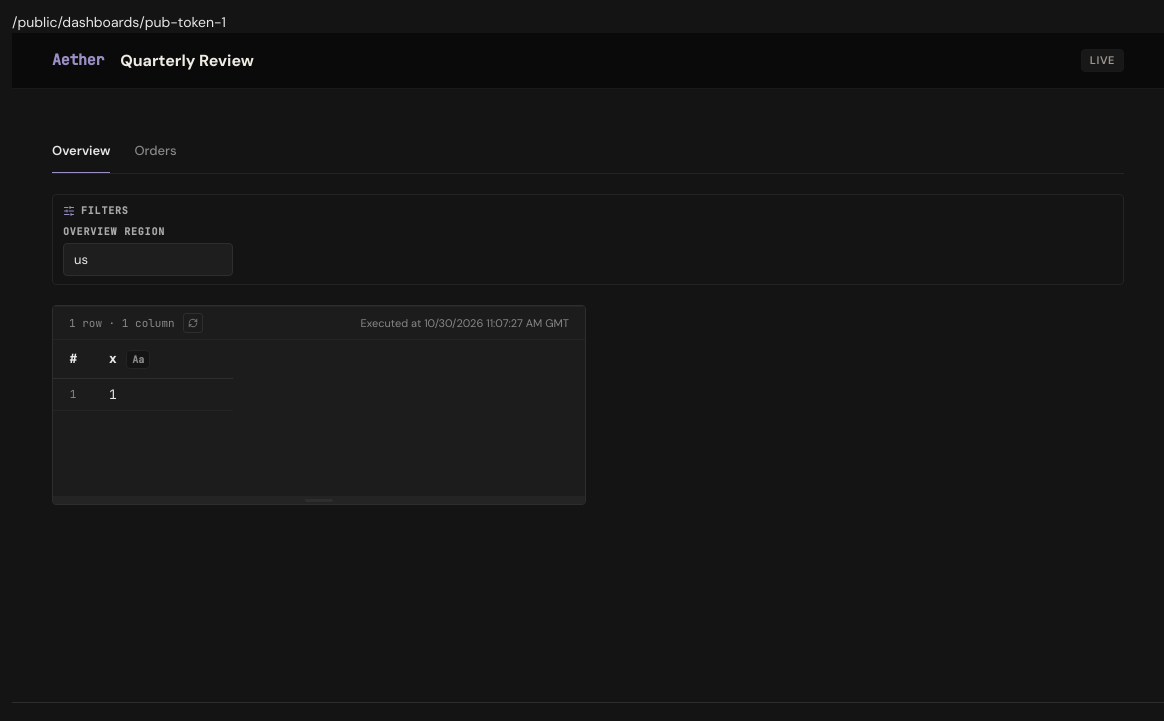
Test: PublicDashboardPage filter scoping › scopes the strip to the active chapter and follows chapter switches
Expected: the tab "Overview" is shown, left=52, top=137, right=110, bottom=173
Expected: the field labelled "Overview region" is shown, left=63, top=243, right=233, bottom=276
Click the tab "Orders" at (156, 155), box left=134, top=137, right=177, bottom=173
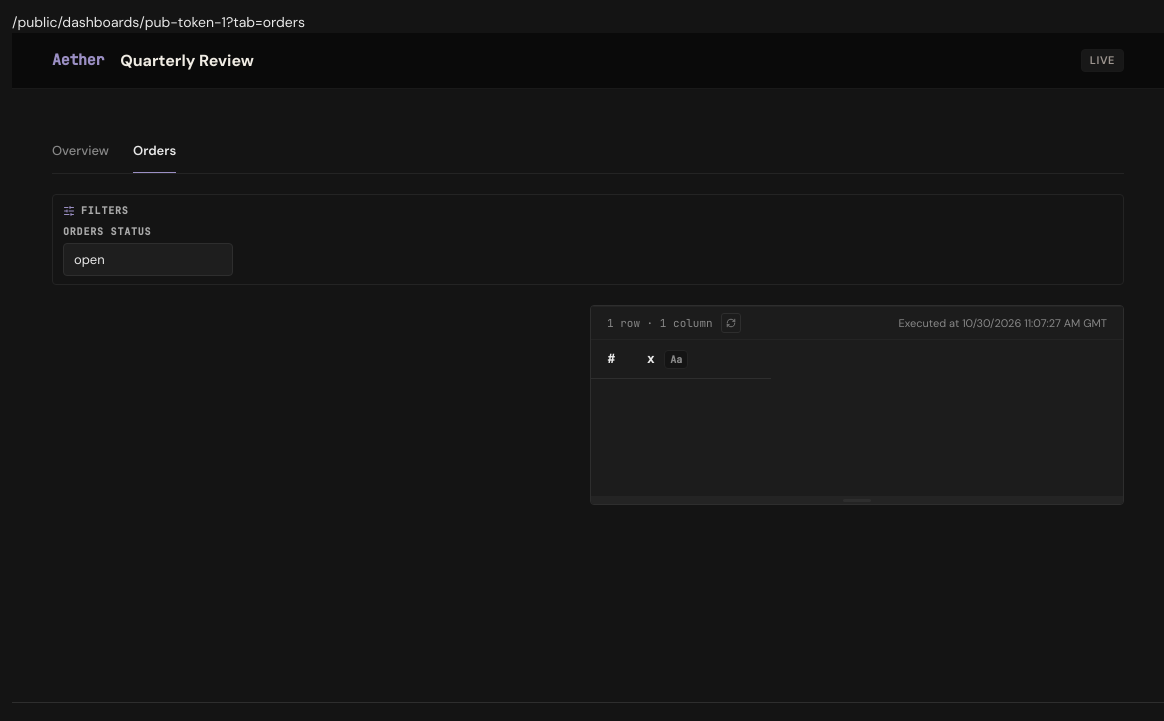
Expected: the field labelled "Orders status" is shown, left=63, top=243, right=233, bottom=276
Expected: the label labelled "Overview region" is gone
